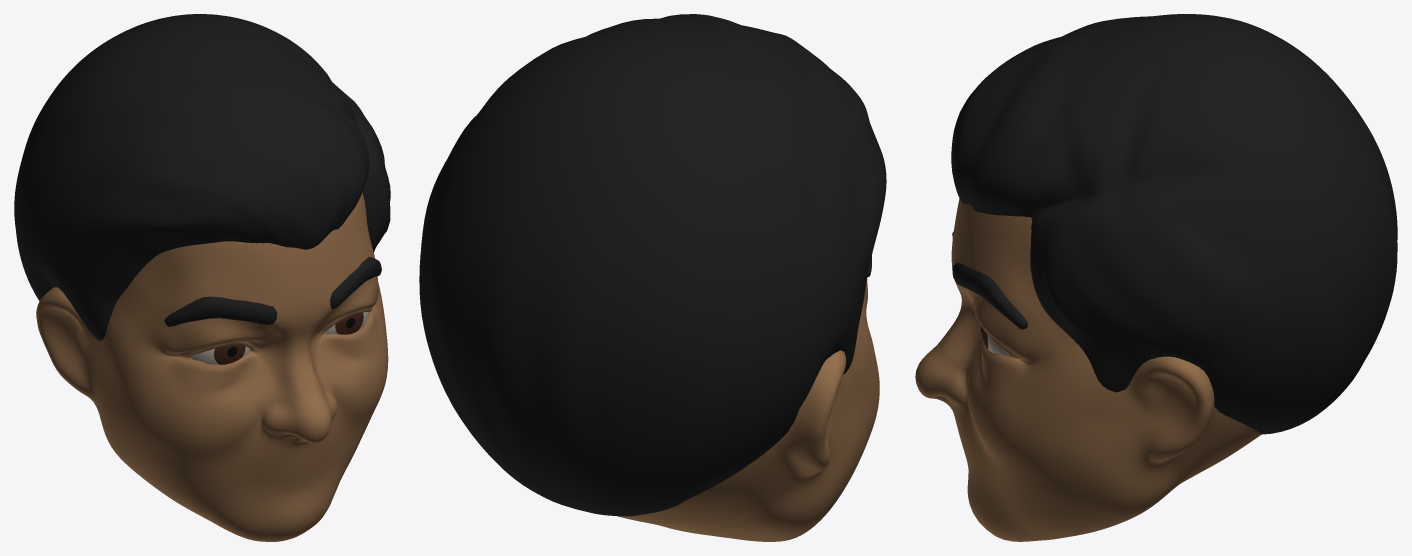
The model's file is head.fbx.
The picture shows the model from 3 angles, left to right: view 1: azimuth 30°, elevation 25°; view 2: azimuth 150°, elevation 25°; view 3: azimuth 270°, elevation 25°; orthographic projection. The views are drawn at different scales.
Parts seen in each view (by area): view 1: Head; view 2: Head; view 3: Head.
Boxes of the visible parts, x1,y1,x2,y2 form: Head: [14, 14, 390, 541]; Head: [419, 14, 886, 541]; Head: [915, 14, 1397, 541].
Bounding box in the file's own units: 30.6 × 40.3 × 35.23.
Materials: 1 (1 with a texture image).
